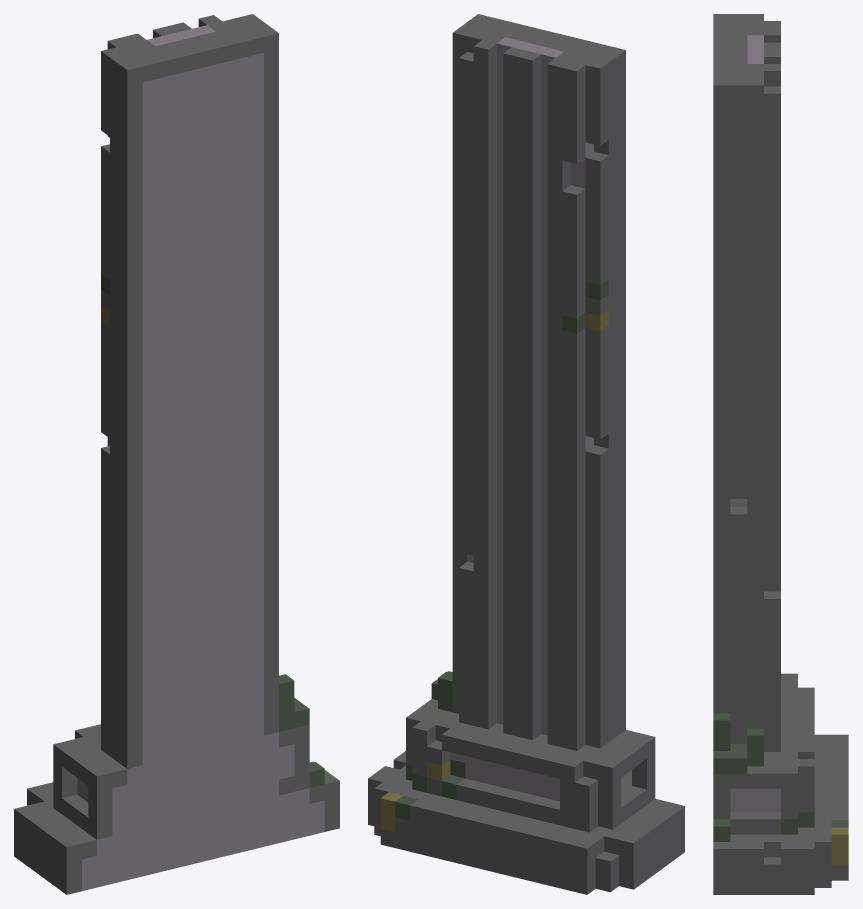
File: SafeRoom2-0-Columns.obj
3 views of the same model, side by side, from view 1: azimuth 30°, elevation 25°; view 2: azimuth 150°, elevation 25°; view 3: azimuth 270°, elevation 25° (orthographic). The views are drawn at different scales.
Parts seen in each view (by area): view 1: Columns; view 2: Columns; view 3: Columns.
Boxes of the visible parts, x1,y1,x2,y2 form: Columns: (14, 14, 339, 894); Columns: (368, 14, 684, 894); Columns: (713, 14, 848, 894).
Bounding box in the file's own units: 1.8 × 5.1 × 0.8.
1 material, 1 textured.
